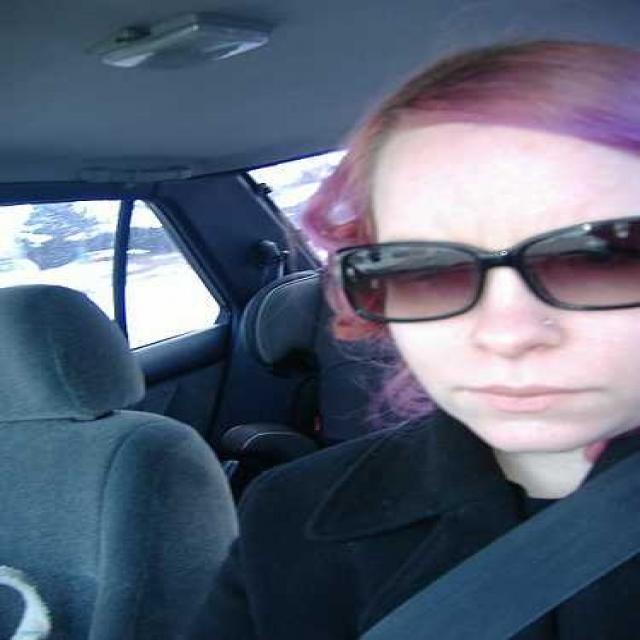seatbelt: (374, 468, 623, 632)
